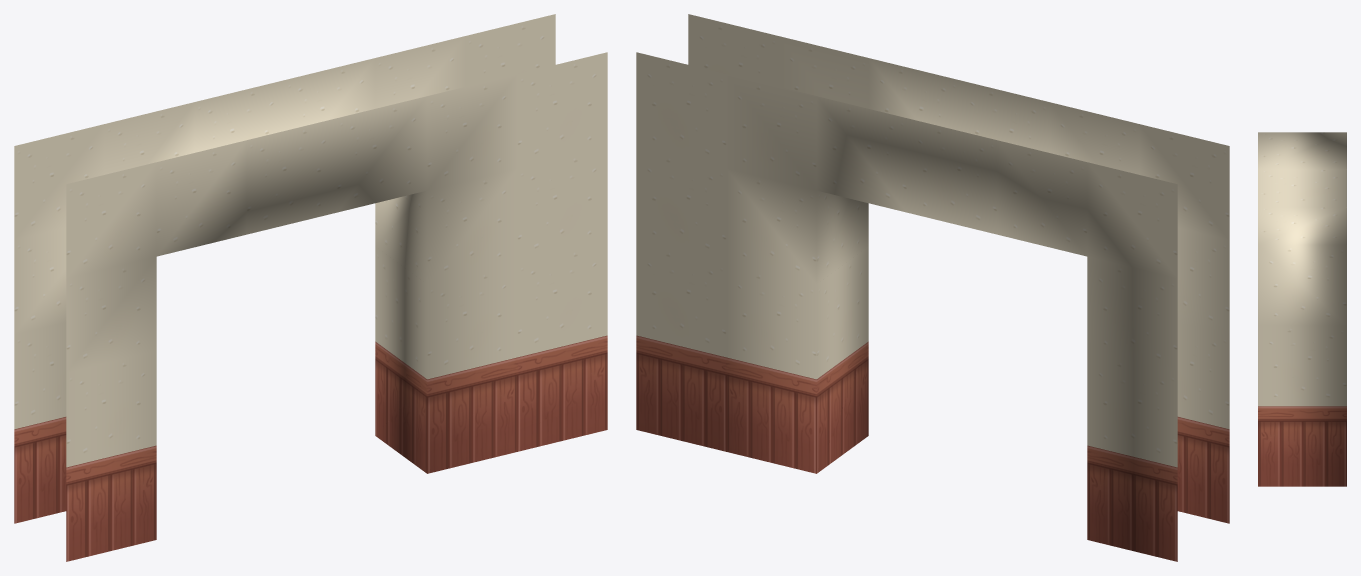
Rendered from 1층_회전블럭.FBX.
3 views of the same model, side by side, from view 1: azimuth 30°, elevation 25°; view 2: azimuth 150°, elevation 25°; view 3: azimuth 270°, elevation 25° (orthographic). The views are drawn at different scales.
Parts seen in each view (by area): view 1: Object053; view 2: Object053; view 3: Object053.
Part boxes in pixels (box(x1,y1,x2,y2)): Object053: box(14, 14, 607, 561); Object053: box(636, 14, 1229, 561); Object053: box(1258, 132, 1346, 486).
Size of the model in its own units: 60 by 40 by 10.
